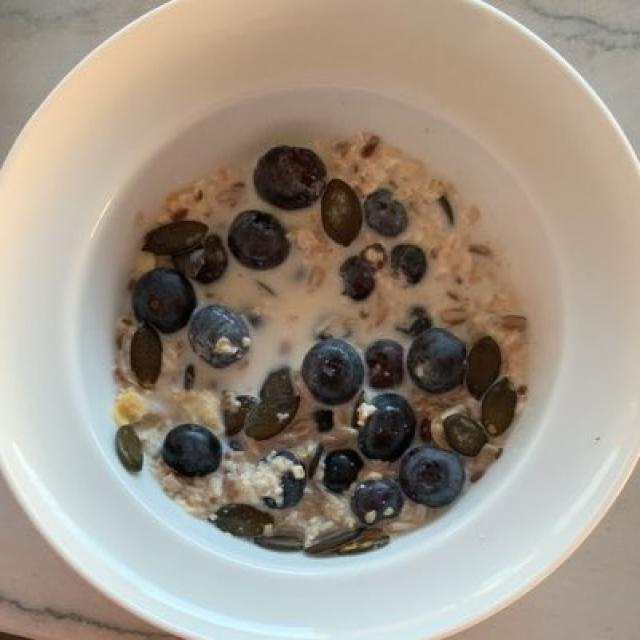blueberries: (137, 145, 479, 524)
milk: (140, 238, 516, 463)
muesli: (122, 144, 532, 530)
